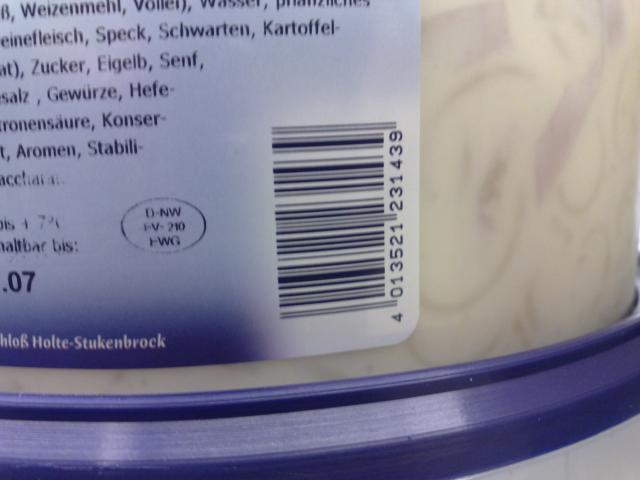Barcode: (260, 109, 414, 333)
